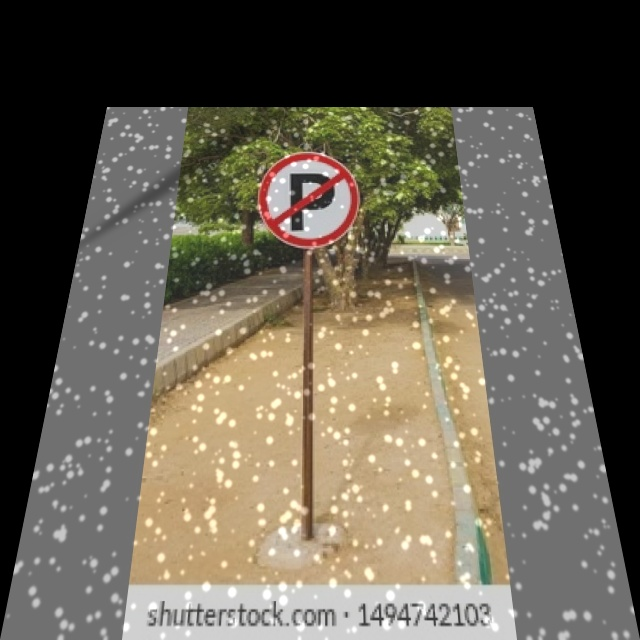No_Parking: (255, 153, 361, 250)
